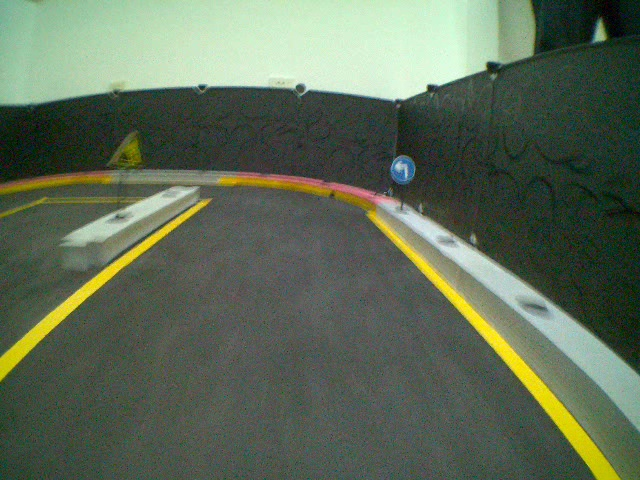fast: (105, 129, 146, 169)
turn: (389, 154, 417, 184)
